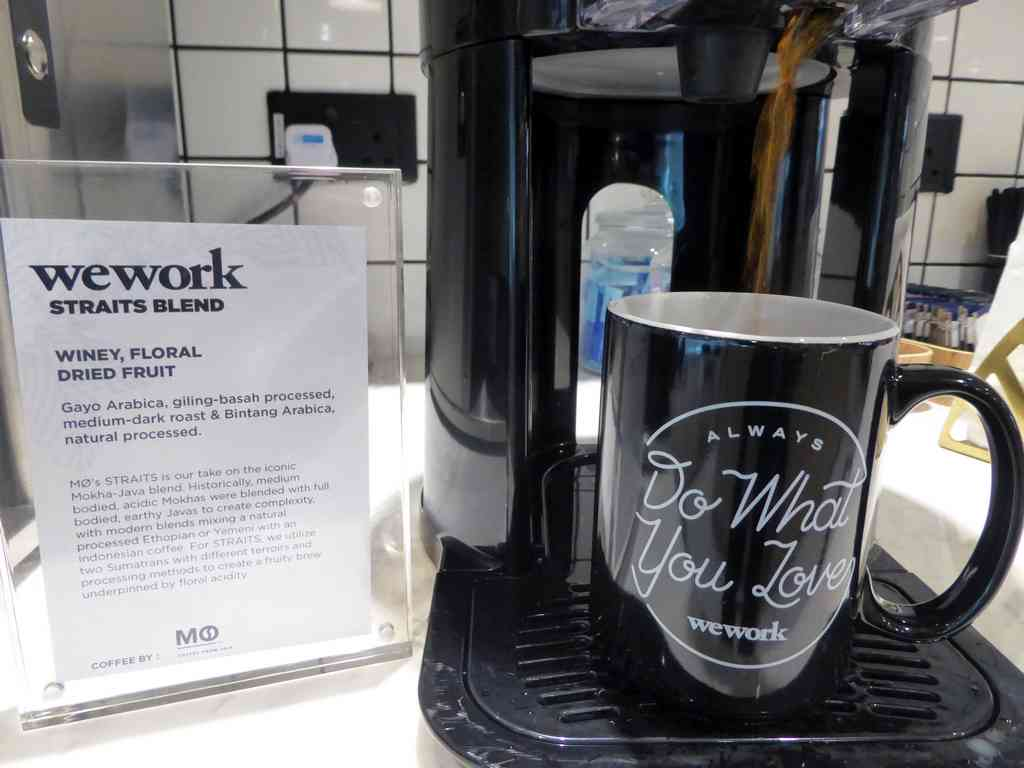wework: (683, 610, 793, 646)
